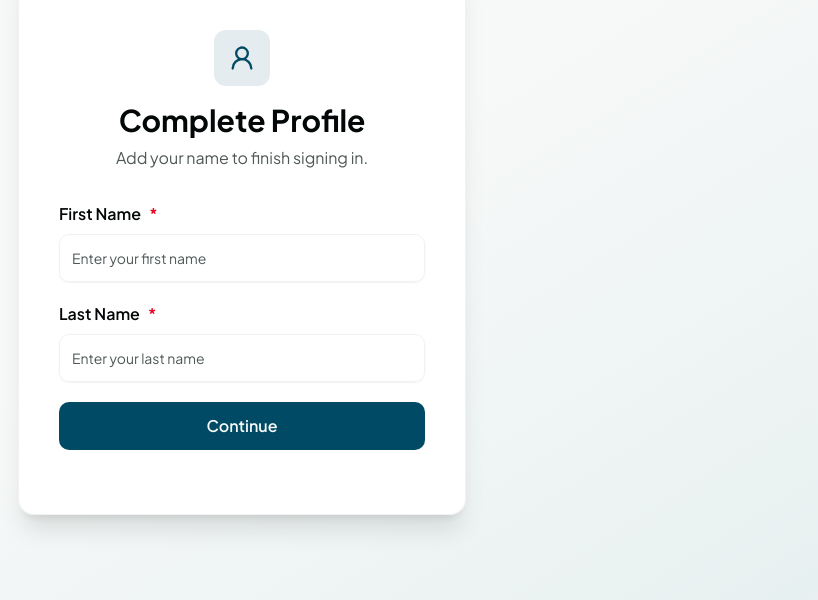
Test: CompleteProfilePage › shows error on blur when last name is empty
Click the field labelled "Last Name *" at (242, 358), box [59,334,425,382]
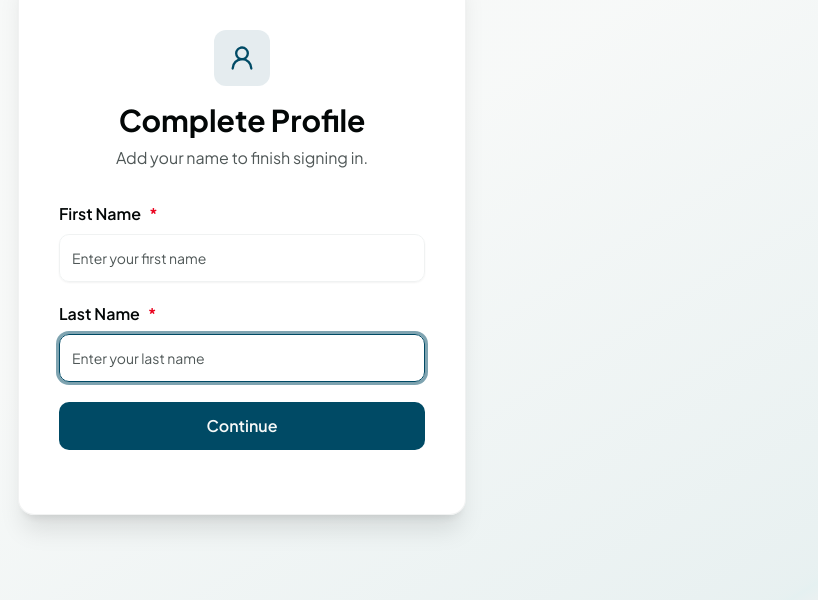
Press Tab
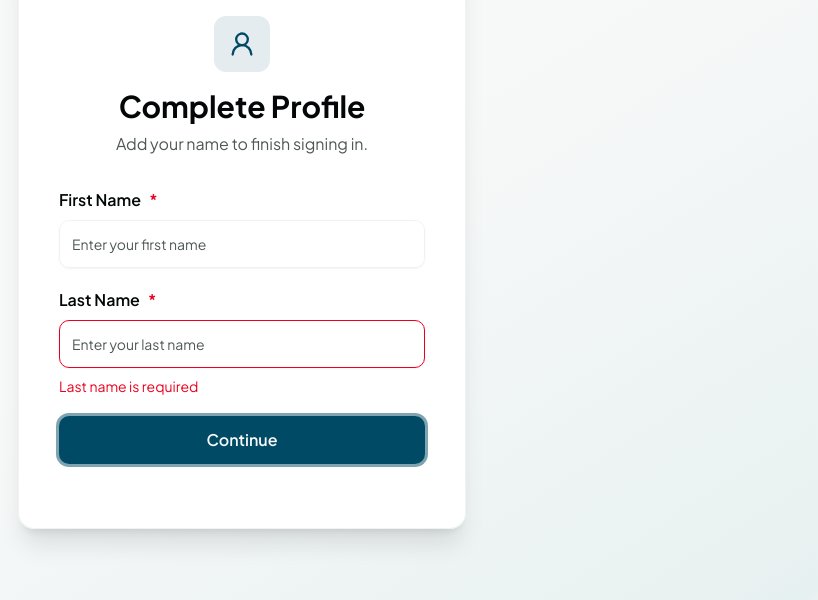
Now the text "Last name is required" is shown, box [59,377,198,395]
